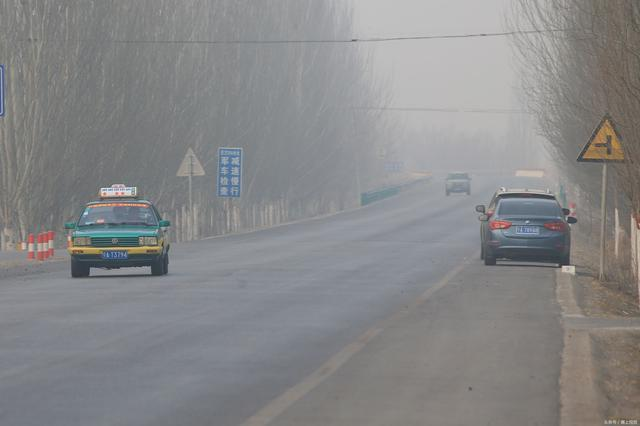car: (61, 183, 171, 277), (477, 196, 578, 266), (475, 187, 572, 259), (443, 172, 472, 195)
